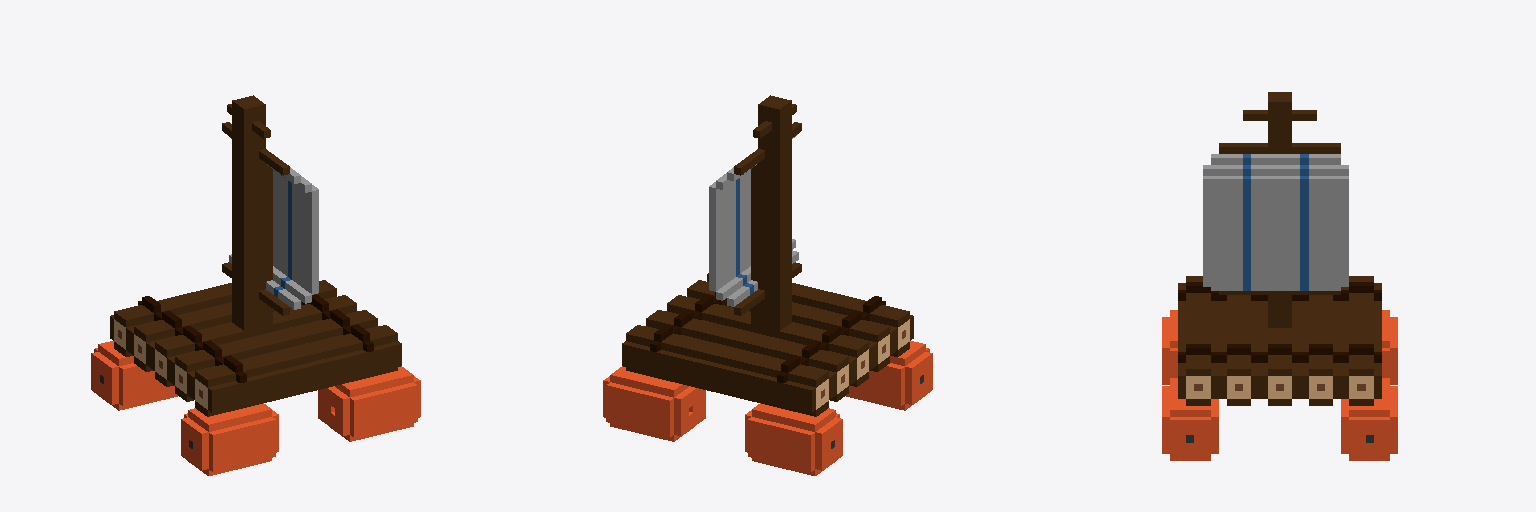
The picture shows the model from 3 angles: view 1: azimuth 30°, elevation 25°; view 2: azimuth 150°, elevation 25°; view 3: azimuth 270°, elevation 25°; orthographic projection.
Parts seen in each view (by area): view 1: object 1; view 2: object 1; view 3: object 1.
Part boxes in pixels (x1,y1,x2,y2): object 1: (91,95,420,475); object 1: (603,95,932,475); object 1: (1162,92,1397,460).
Size of the model in its own units: 3.1 by 4.2 by 2.9.
Materials: 1 (1 with a texture image).